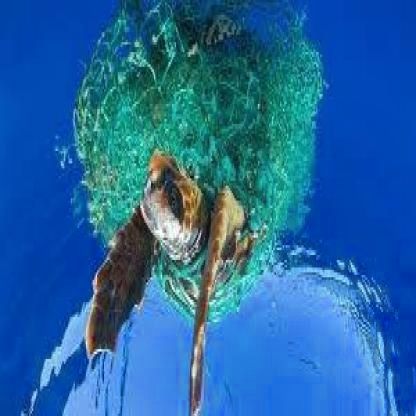net: (81, 15, 316, 319)
